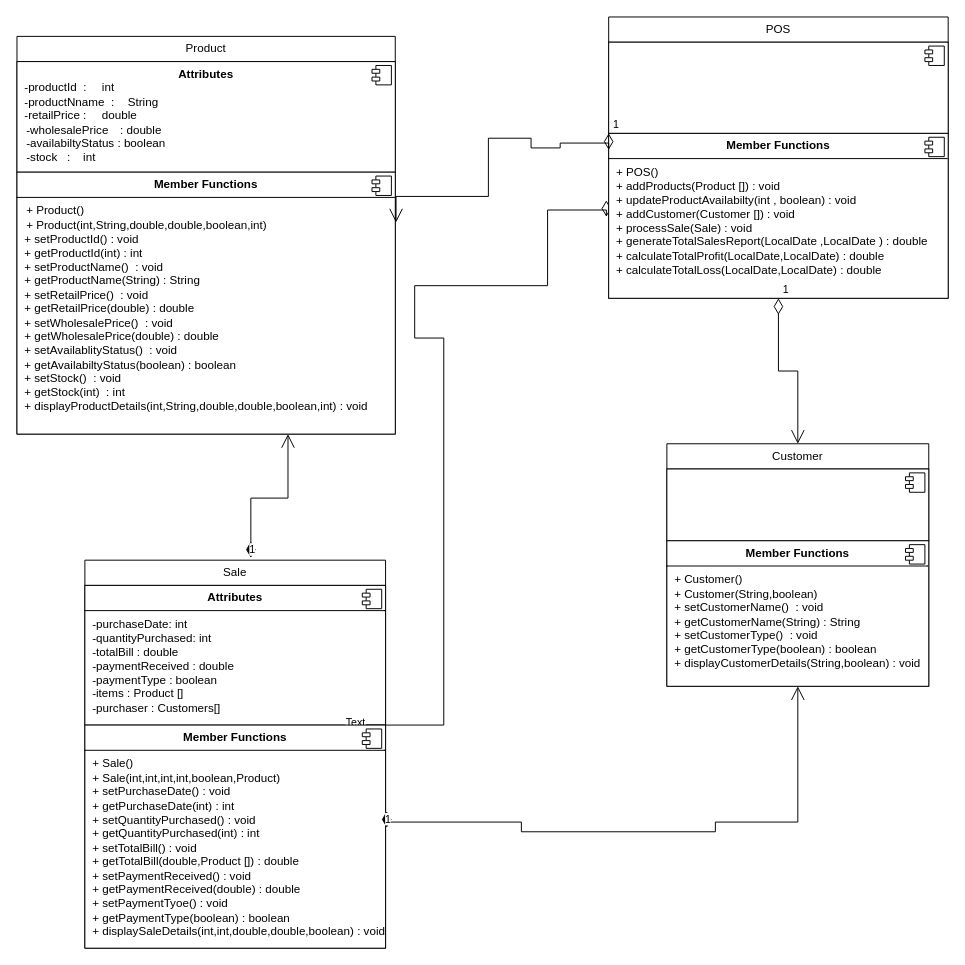
Image size: 965x965. Some labels were removed from this diagram. The shapes that lost their labels are listed below. From the top down, each one's box as (x1, y1, x2, y2) in pixels, then its label:
(608, 41, 948, 133): Attributes -products: Product [] -customers: Customer [] -sales : Sale[]
(666, 468, 929, 541): Attributes -customerName : String -customerType : boolean
